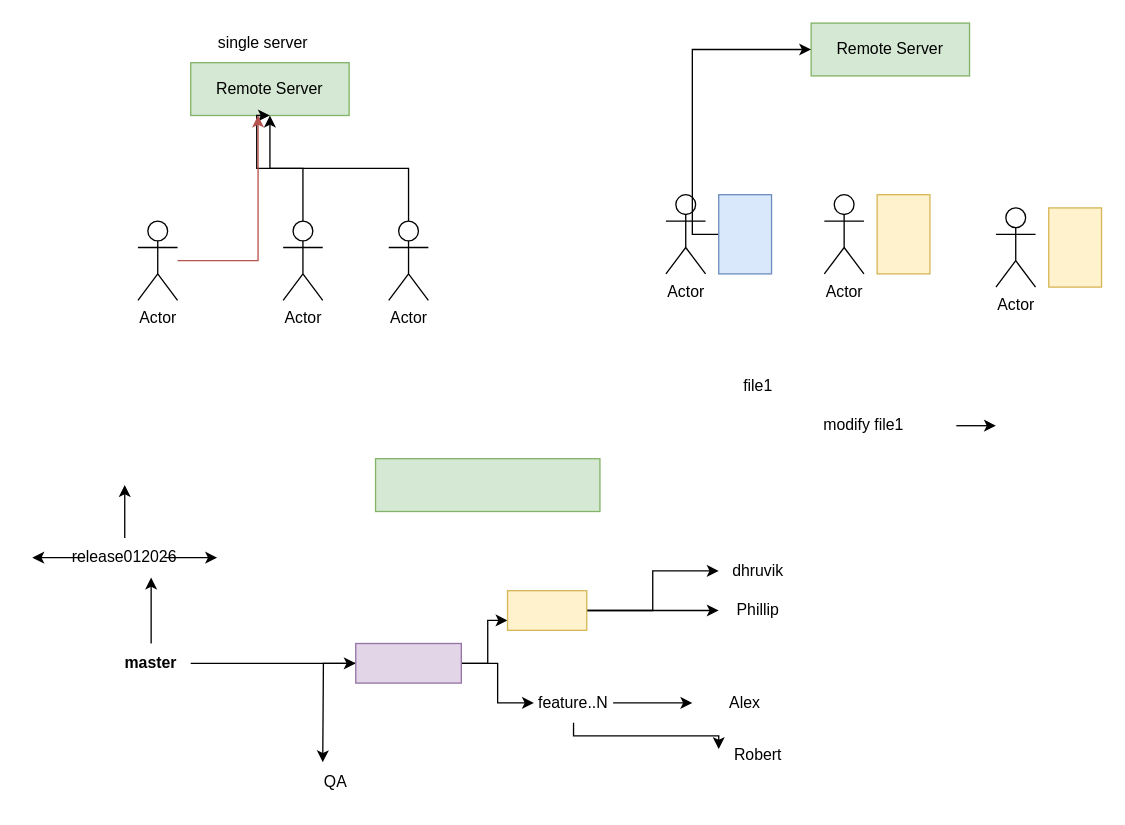
Some shapes in this 1125 by 825 pixel diagram are drawn without their labels. The centre of each missing label's shape, as x and y in pixels:
"Branching strategy" goes at point 487,484.
"develpment" goes at point 407,662.
"feature1" goes at point 546,609.
